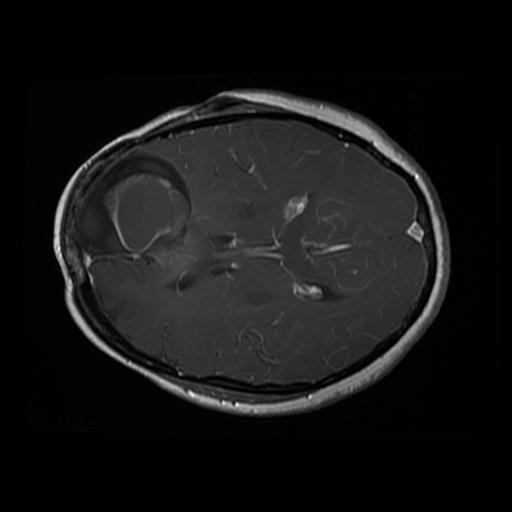glioma: (78, 149, 192, 283)
